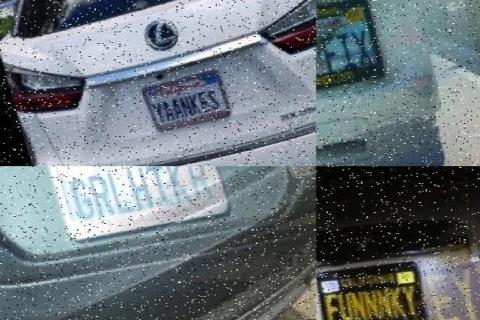LicensePlate: (38, 166, 240, 244), (316, 0, 398, 100), (316, 258, 436, 320), (138, 72, 241, 132)
